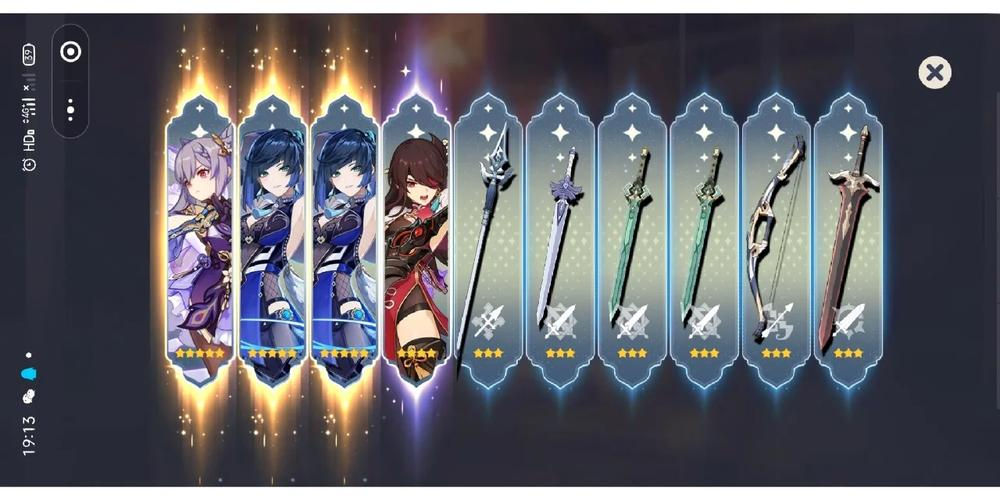夜兰: (240, 121, 309, 377), (315, 126, 379, 389)
